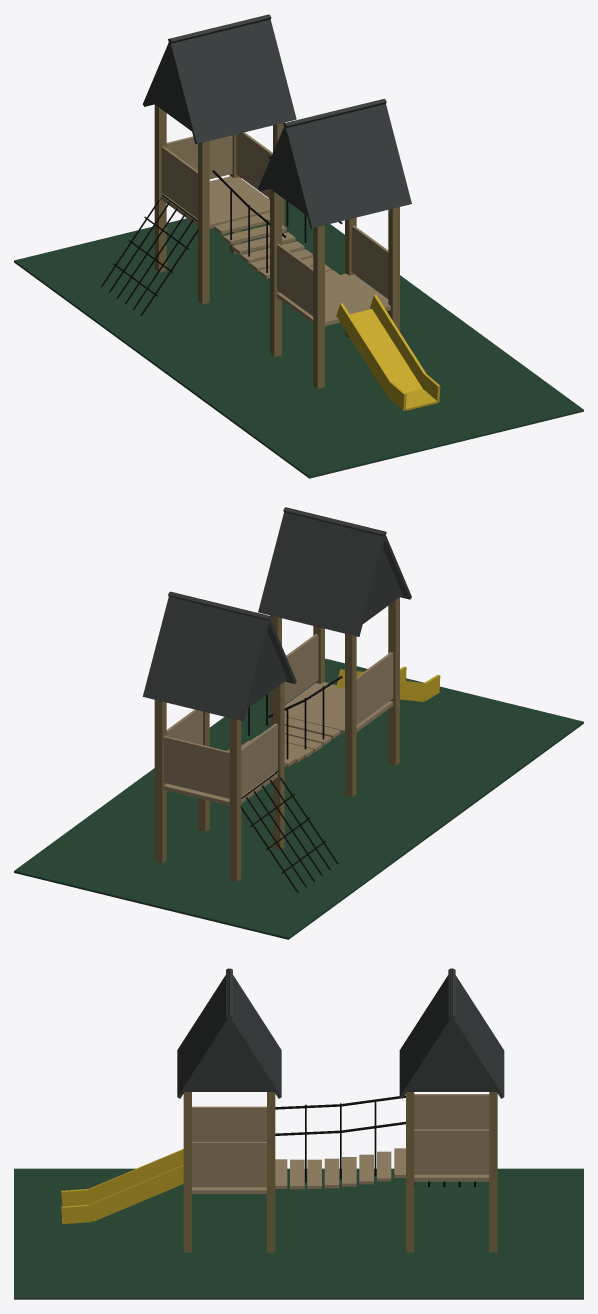
The model's file is sport.play.climber_timber.glb.
3 renders of one model, top to bottom at view 1: azimuth 30°, elevation 25°; view 2: azimuth 150°, elevation 25°; view 3: azimuth 270°, elevation 25°, orthographic. The views are drawn at different scales.
Parts seen in each view (by area): view 1: main__paint_243, main__paint_333, main__timber_986, main__timber_764, main__paint_ca2, main__rubber; view 2: main__paint_243, main__paint_333, main__timber_986, main__timber_764, main__rubber, main__paint_ca2; view 3: main__paint_243, main__paint_333, main__timber_986, main__timber_764, main__paint_ca2, main__rubber.
Boxes of the visible parts, x1=… form: main__paint_243: x1=14, y1=198, x2=583, y2=478; main__paint_333: x1=143, y1=14, x2=411, y2=228; main__timber_986: x1=161, y1=132, x2=390, y2=326; main__timber_764: x1=154, y1=104, x2=399, y2=388; main__paint_ca2: x1=336, y1=295, x2=440, y2=410; main__rubber: x1=100, y1=156, x2=342, y2=315; main__paint_243: x1=14, y1=658, x2=583, y2=939; main__paint_333: x1=143, y1=507, x2=411, y2=721; main__timber_986: x1=163, y1=634, x2=393, y2=805; main__timber_764: x1=154, y1=597, x2=399, y2=881; main__rubber: x1=240, y1=676, x2=342, y2=892; main__paint_ca2: x1=336, y1=666, x2=440, y2=701; main__paint_243: x1=14, y1=1168, x2=583, y2=1299; main__paint_333: x1=177, y1=968, x2=504, y2=1098; main__timber_986: x1=192, y1=1094, x2=489, y2=1193; main__timber_764: x1=183, y1=1092, x2=497, y2=1252; main__paint_ca2: x1=61, y1=1149, x2=183, y2=1223; main__rubber: x1=275, y1=1095, x2=475, y2=1187.
Bounding box in the file's own units: 4.4 × 3.88 × 8.2.
